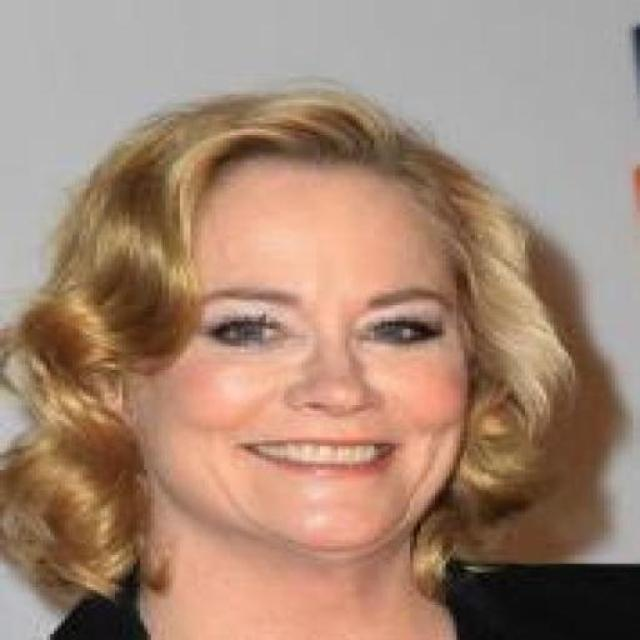bareface: (30, 93, 592, 592)
